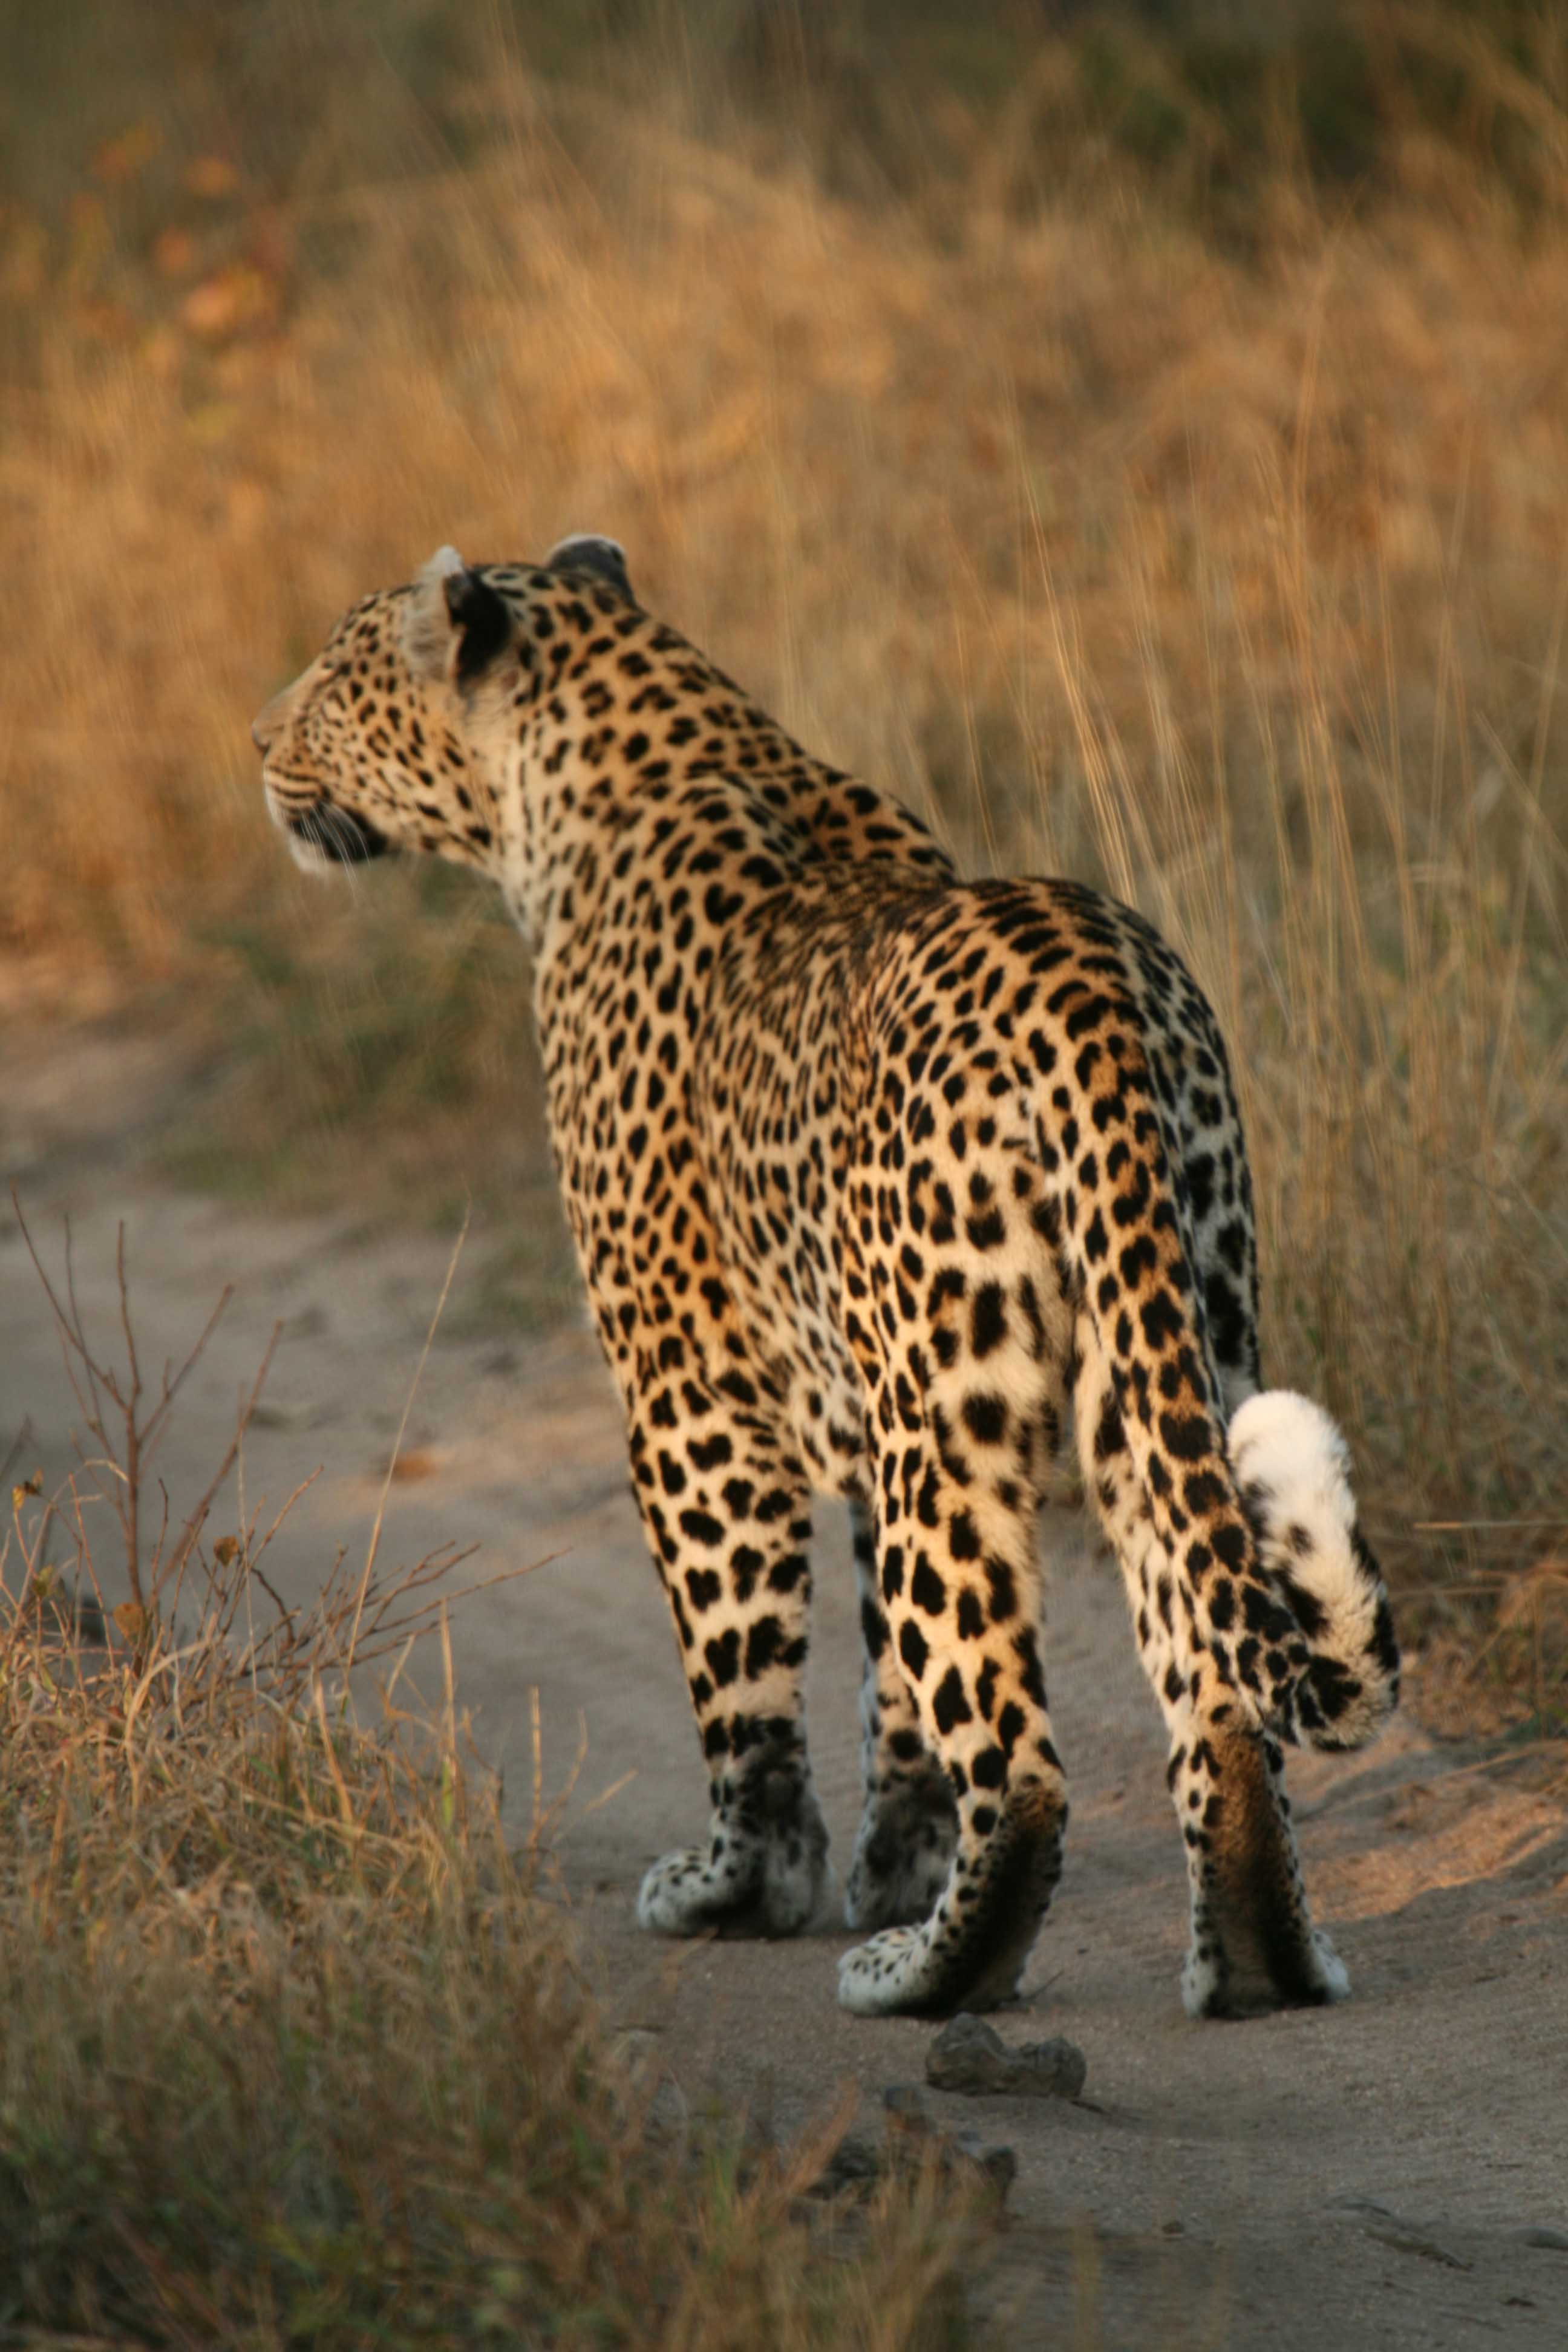leopard: (233, 544, 1452, 2049)
